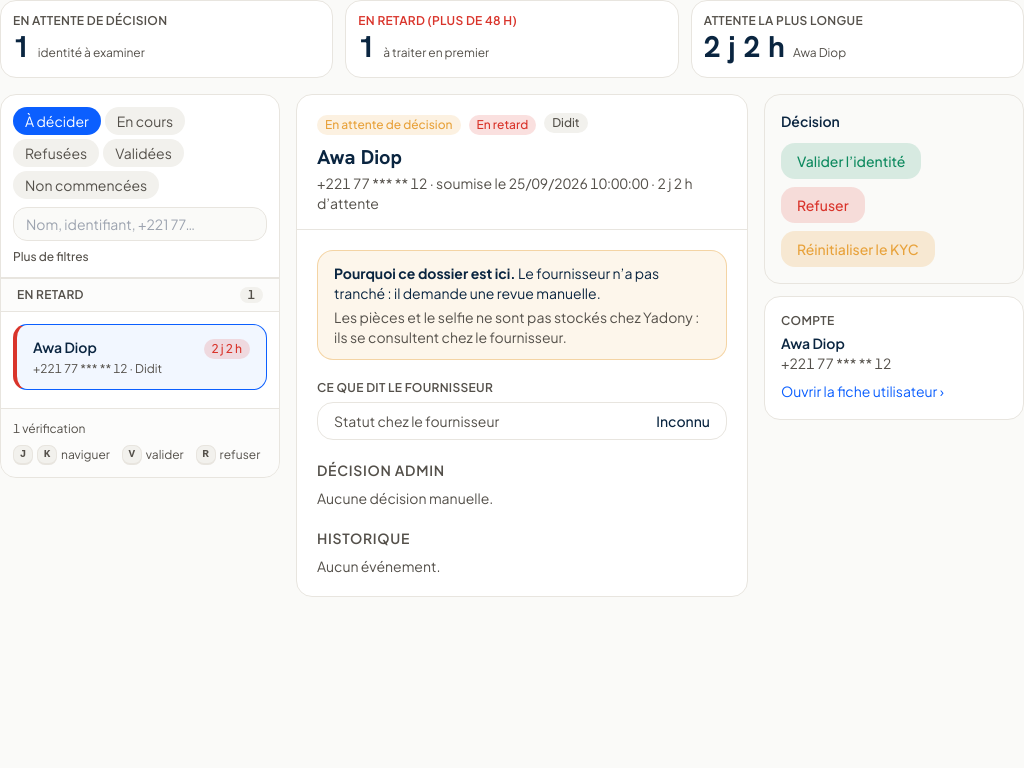
Test: /kyc › un conflit relit le dossier sans le vider
The width and height of the screenshot is (1024, 768).
Click the button with test id "kyc-reject" at [823, 205], box [781,187,865,223]
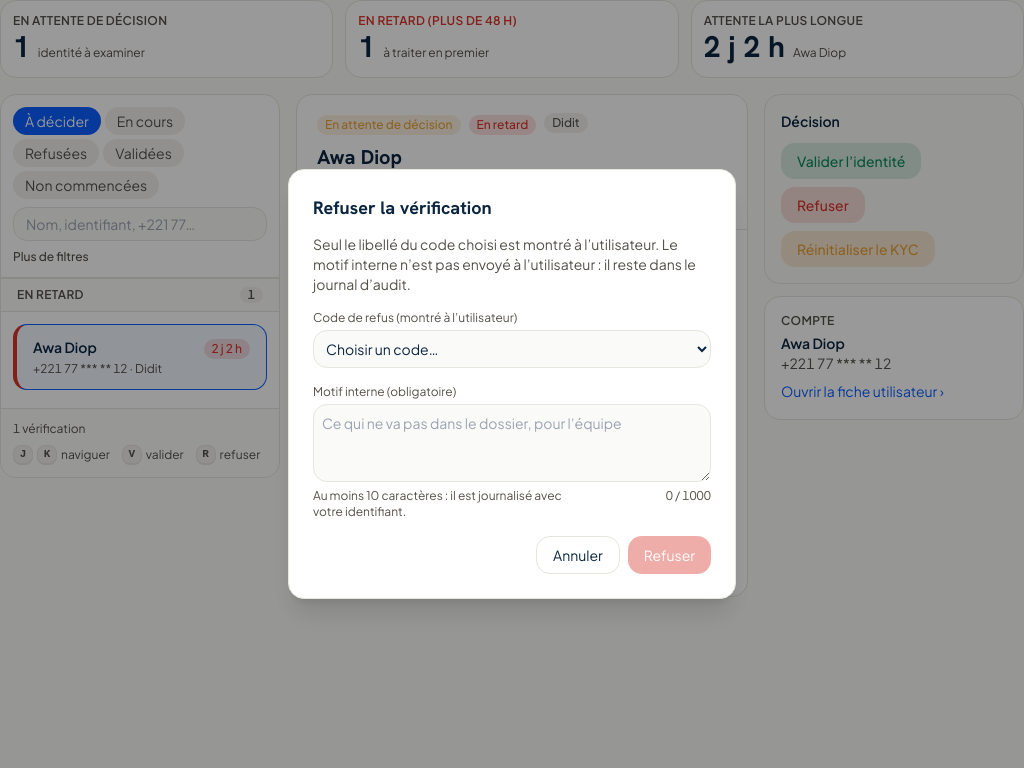
Select "Autre motif" in the dropdown with test id "kyc-code" at [512, 349], box [313,330,711,368]
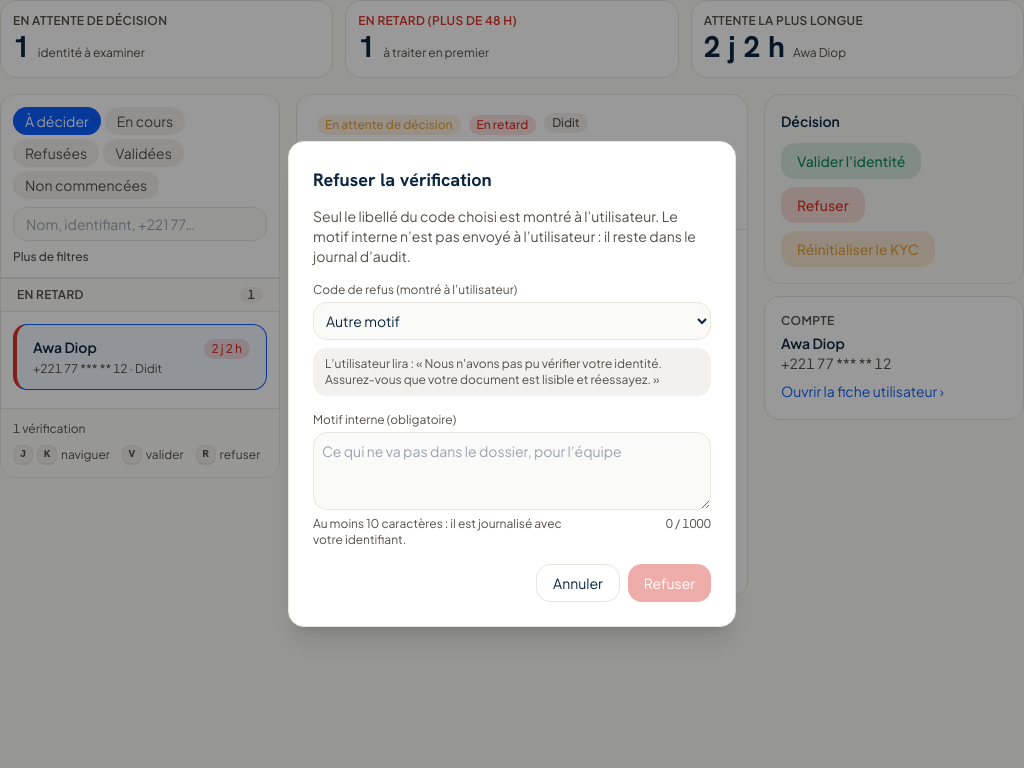
Type "Motif suffisamment long" into the text box with test id "kyc-reason" at [512, 471], box [313,432,711,510]
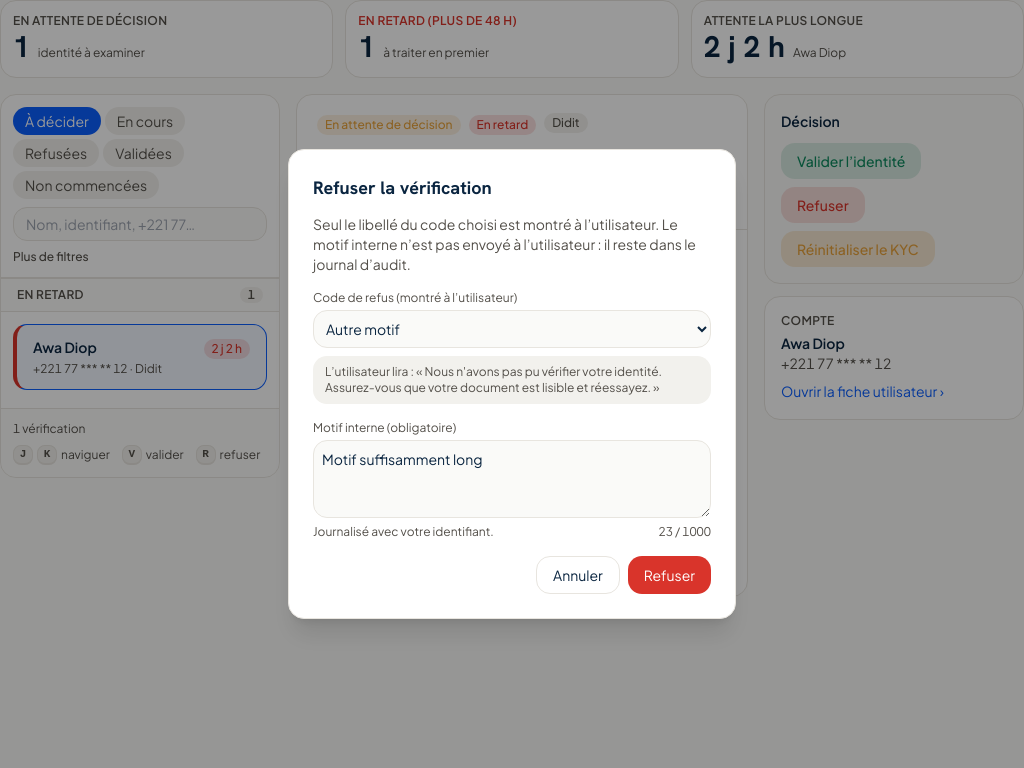
Click the button with test id "kyc-dialog-submit" at [669, 575], box [628,556,711,594]
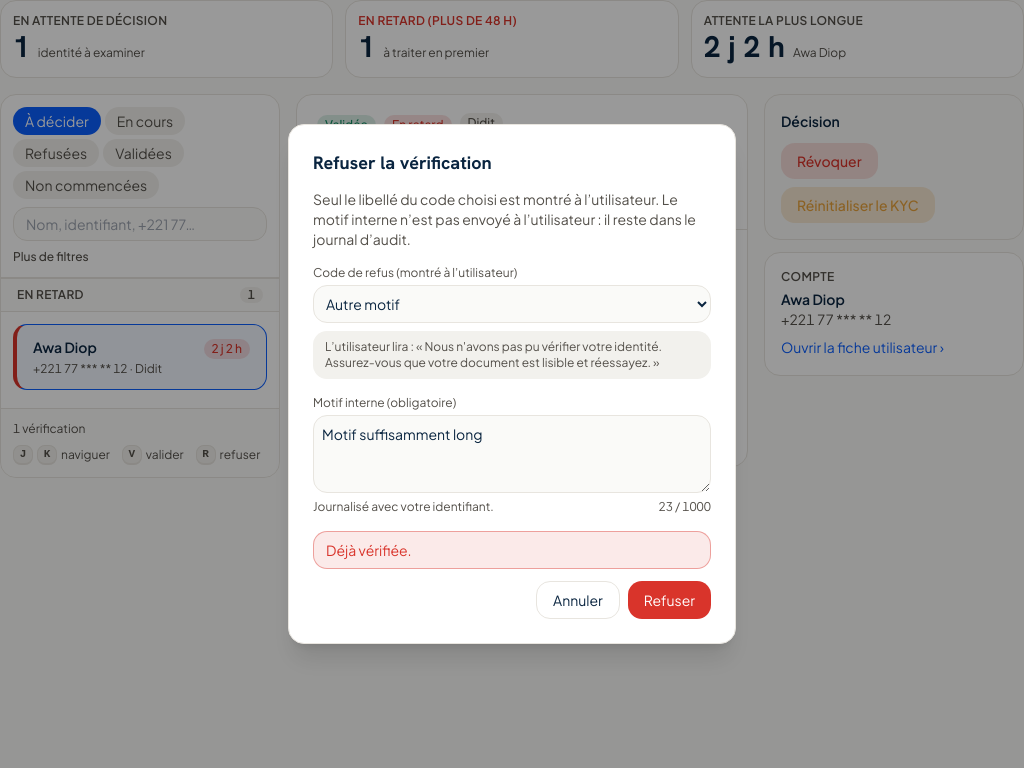
Now the message with test id "kyc-dialog-error" reads "Déjà vérifiée.", box [326,541,412,559]
